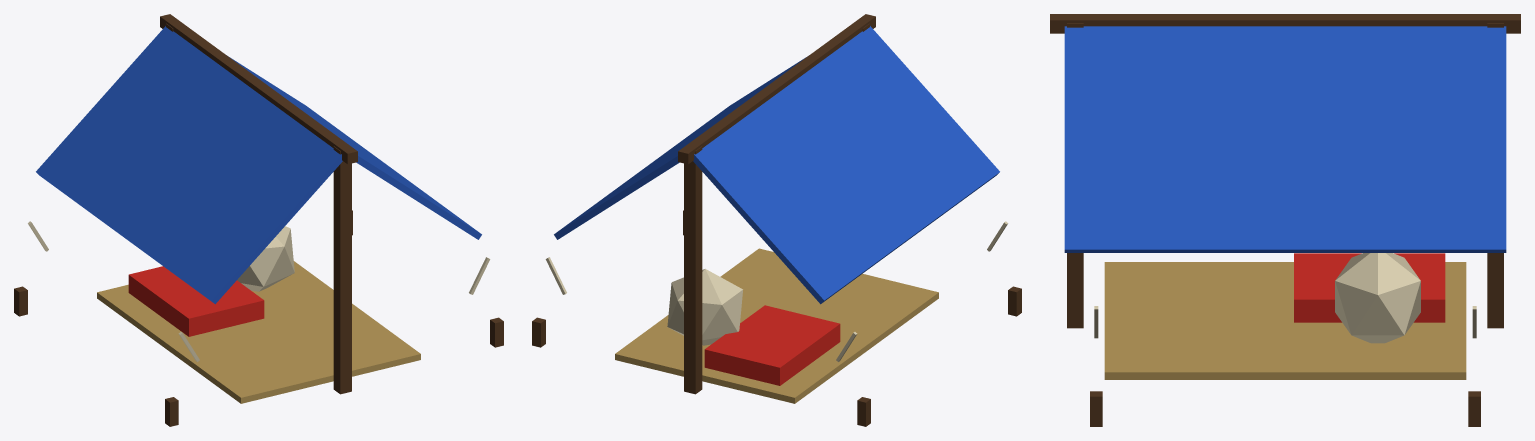
The model's file is Carpa azul.fbx.
3 renders of one model, left to right at view 1: azimuth 30°, elevation 25°; view 2: azimuth 150°, elevation 25°; view 3: azimuth 270°, elevation 25°, orthographic. The views are drawn at different scales.
Parts seen in each view (by area): view 1: Carpa azul; view 2: Carpa azul; view 3: Carpa azul.
Boxes of the visible parts, x1,y1,x2,y2 form: Carpa azul: (14,14,503,426); Carpa azul: (532,14,1021,426); Carpa azul: (1050,14,1520,426).
Bounding box in the file's own units: 1.15 × 0.8075 × 1.12.
